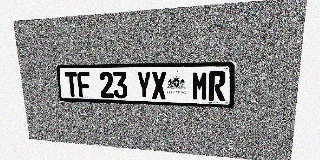2: (99, 72, 114, 98)
3: (113, 72, 128, 98)
F: (77, 72, 91, 97)
M: (192, 71, 208, 101)
R: (208, 71, 226, 101)
T: (65, 72, 79, 97)
X: (151, 71, 167, 100)
Y: (136, 71, 151, 99)
